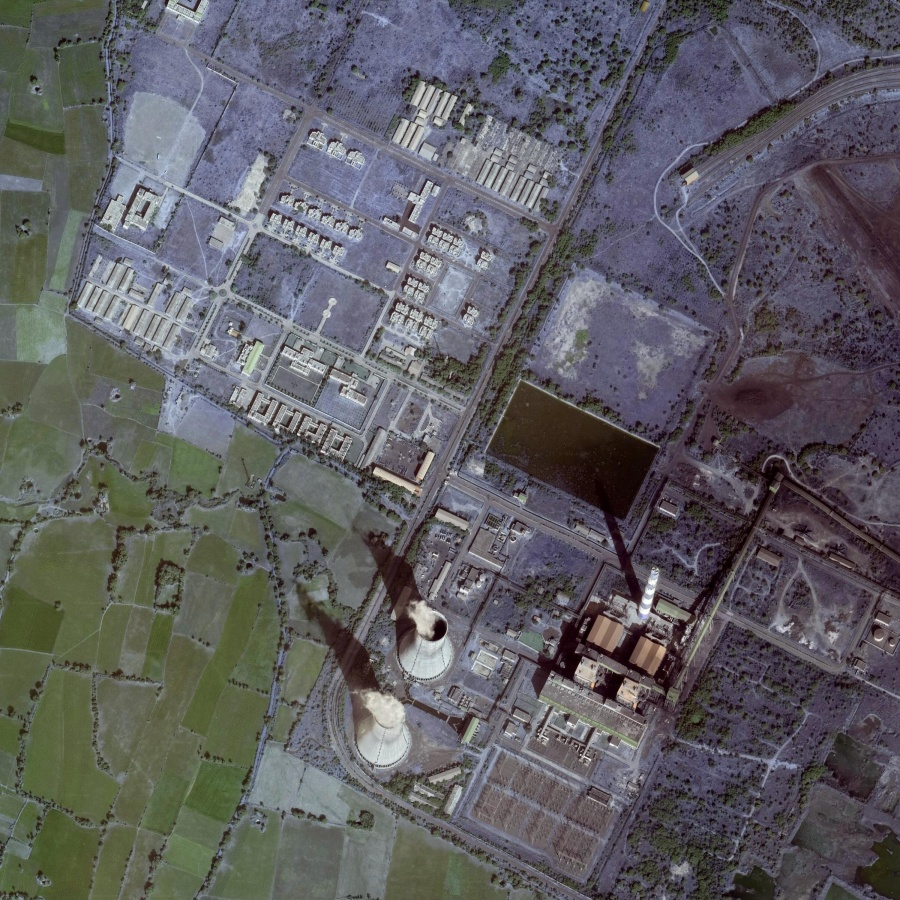PowerPlant: (322, 364, 759, 822)
